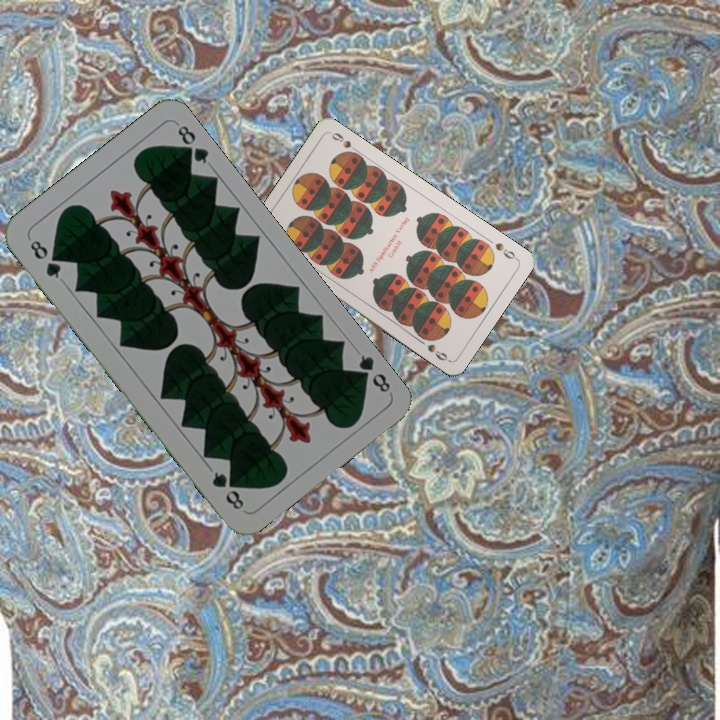G8: (350, 350, 393, 396), (25, 235, 64, 282)
S9: (491, 238, 520, 262)
